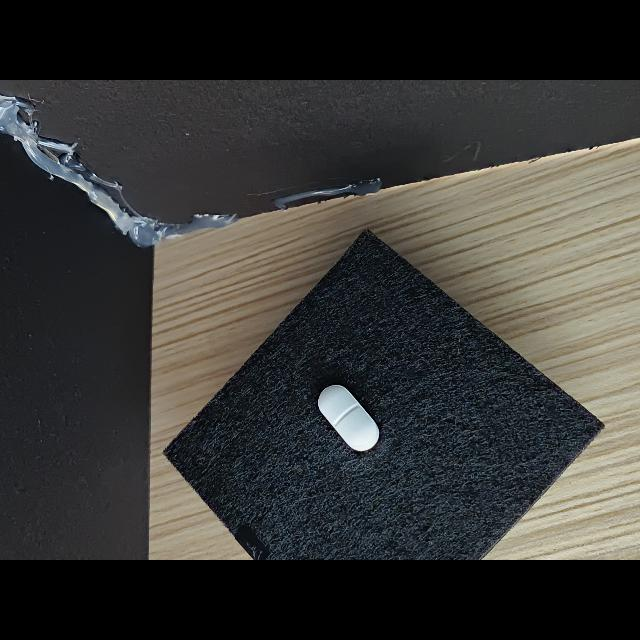Intact Pill: (318, 385, 379, 451)
